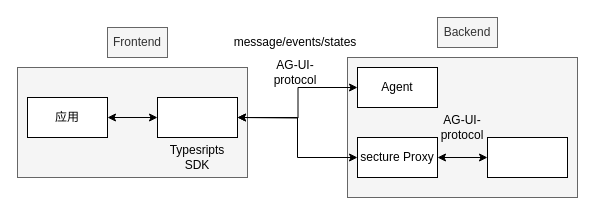
Some shapes in this 595 by 215 pixel diagram are drawn without their labels. Here are the shapes that lost their labels. From the top down, the box of each, then its label:
(156, 96, 238, 138): AG-UI Client
(486, 136, 568, 178): auth-Agent
